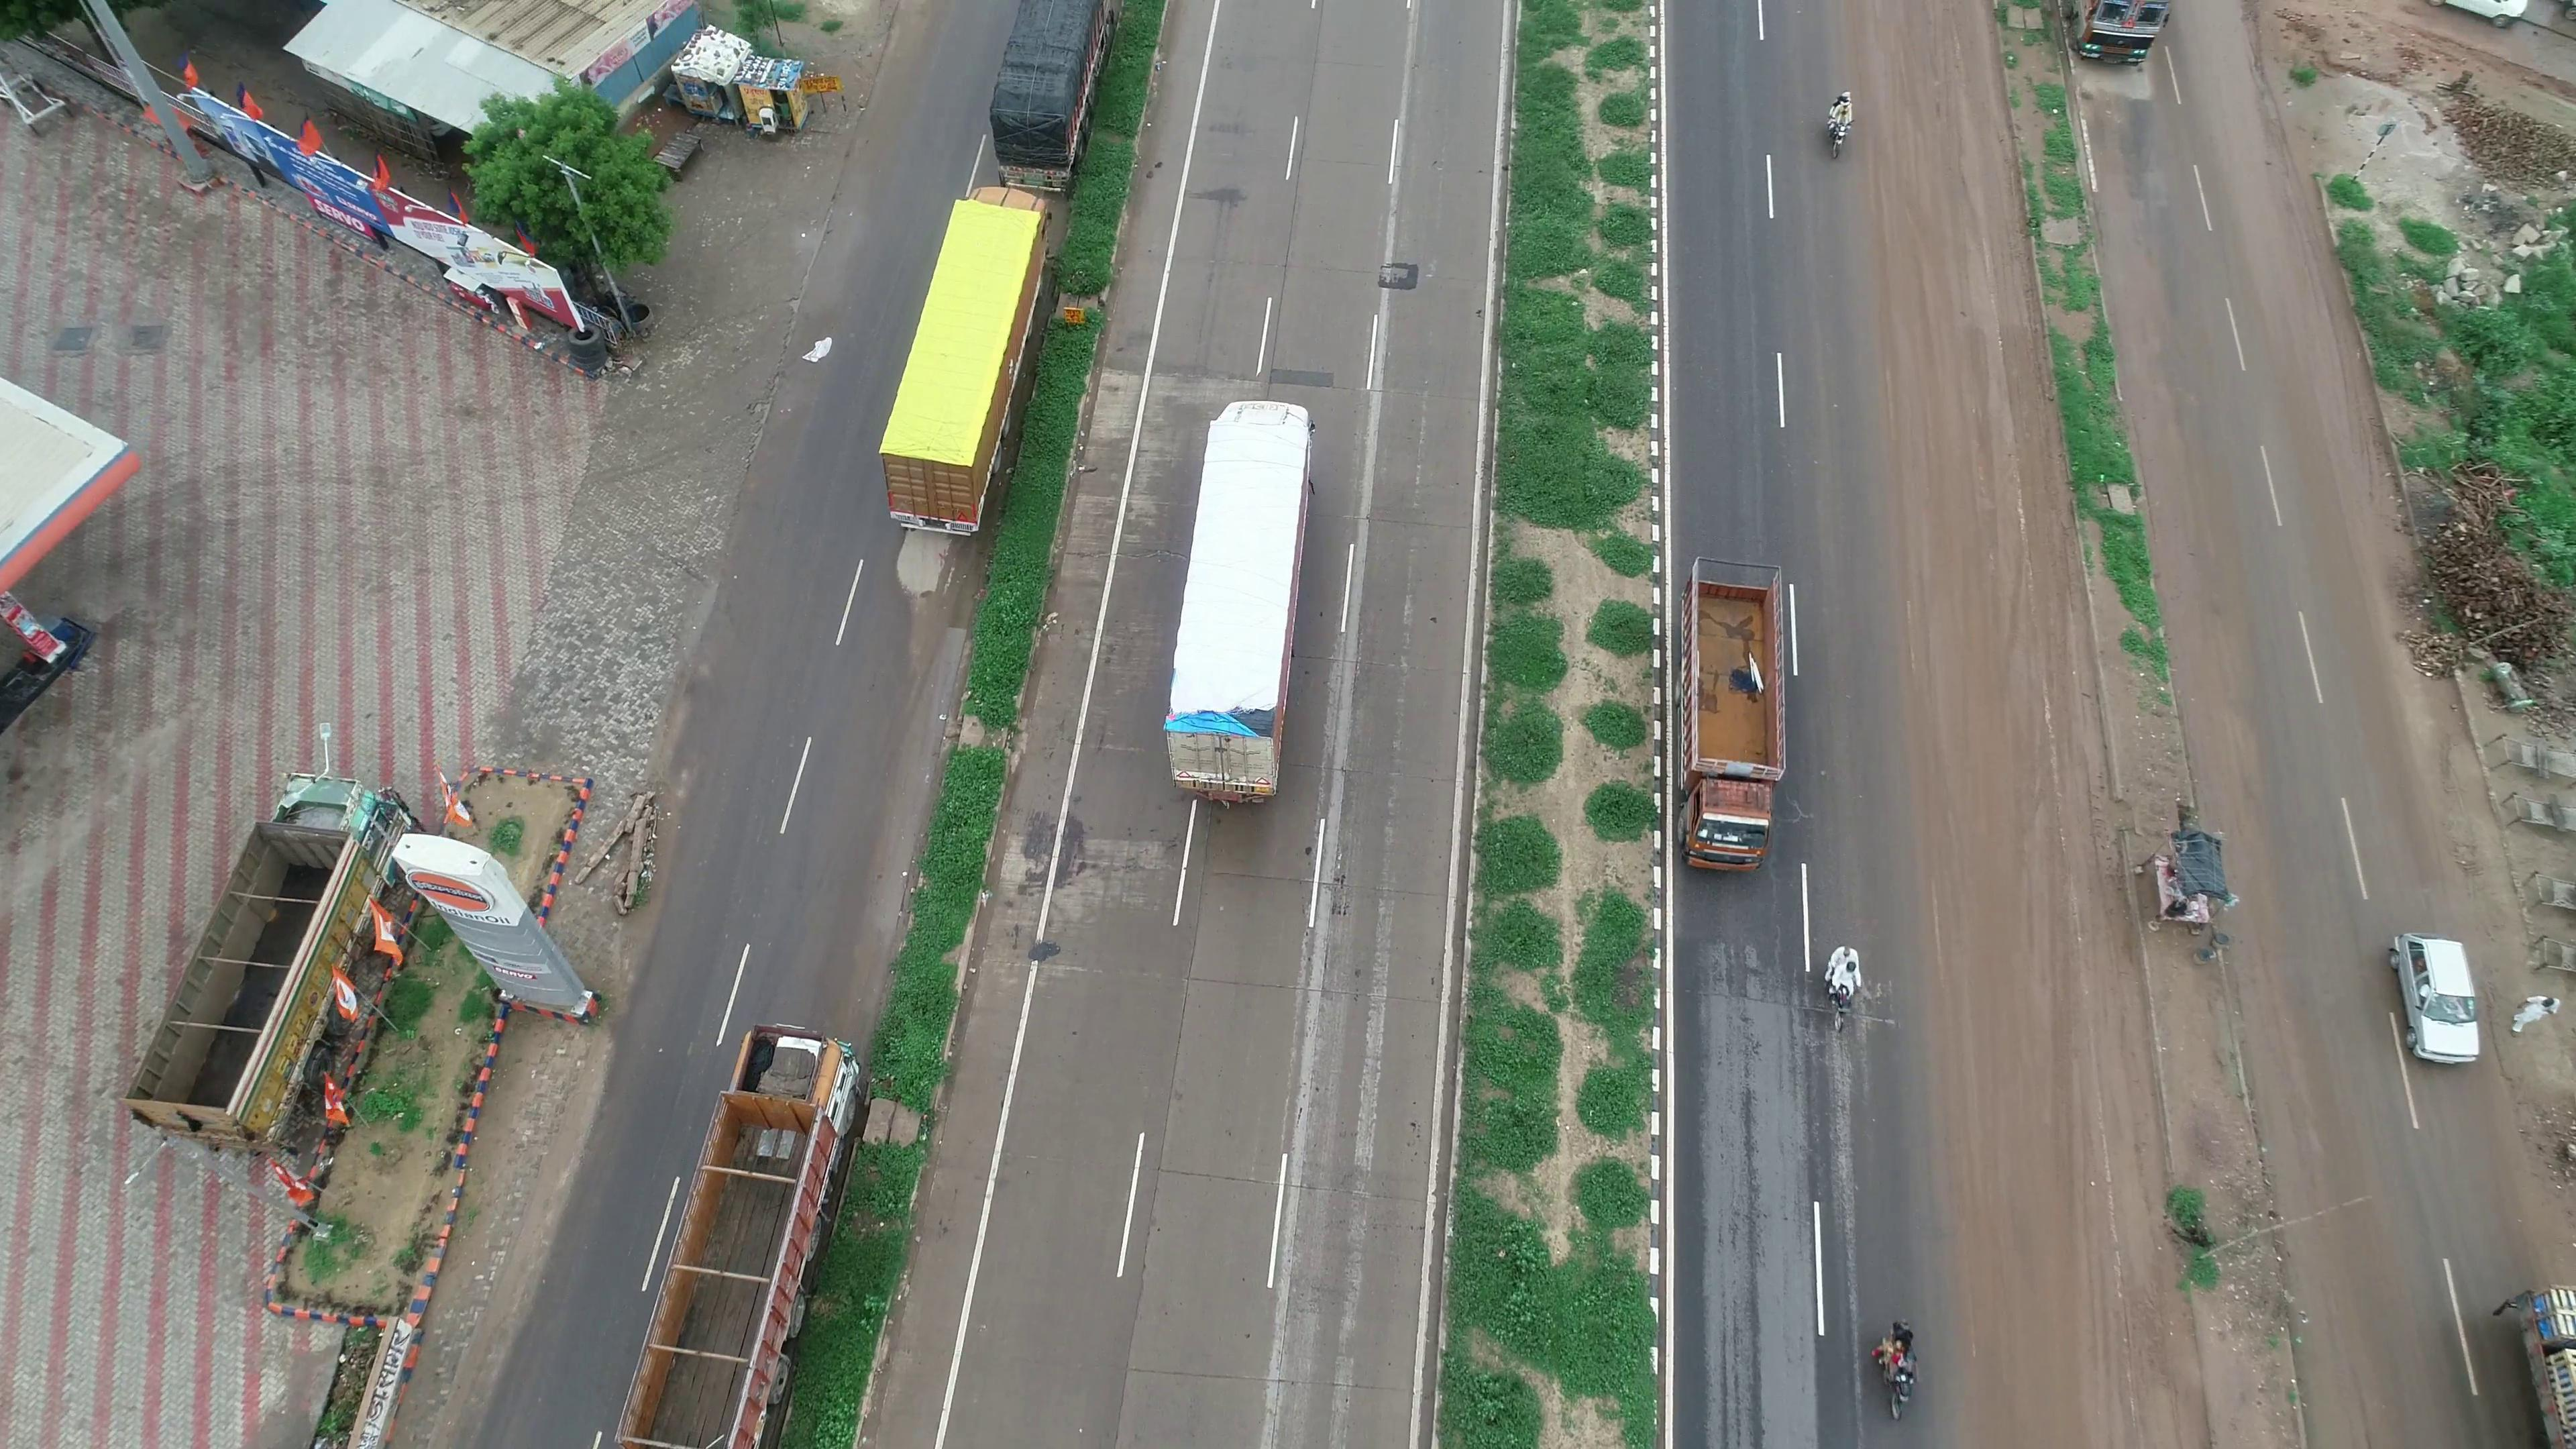Muddy_road: (1955, 987, 2166, 1440), (1923, 492, 2105, 973), (1882, 28, 2024, 472)
